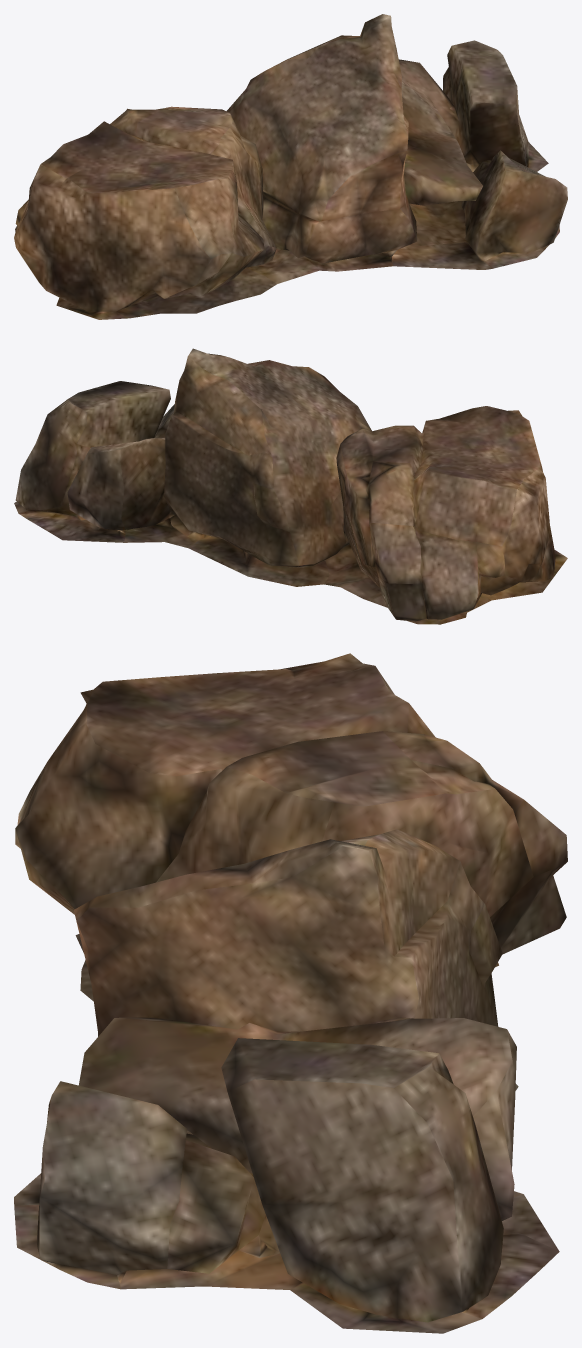
Rendered from rock_mars_1.glb.
3 views of the same model, one above another, from view 1: azimuth 30°, elevation 25°; view 2: azimuth 150°, elevation 25°; view 3: azimuth 270°, elevation 25° (orthographic). The views are drawn at different scales.
Visible parts, largest first — view 1: boulder_02; view 2: boulder_02; view 3: boulder_02.
Part boxes in pixels (x1,y1,x2,y2): boulder_02: [14, 14, 567, 319]; boulder_02: [14, 348, 567, 624]; boulder_02: [14, 653, 567, 1333].
Bounding box in the file's own units: 2.51 × 0.8788 × 1.23.
1 material, 1 textured.
